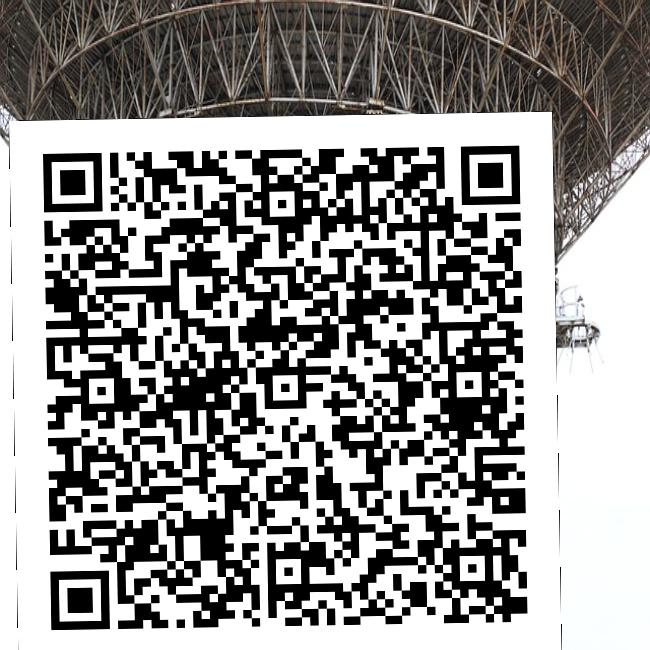qr_code: (9, 104, 561, 650)
